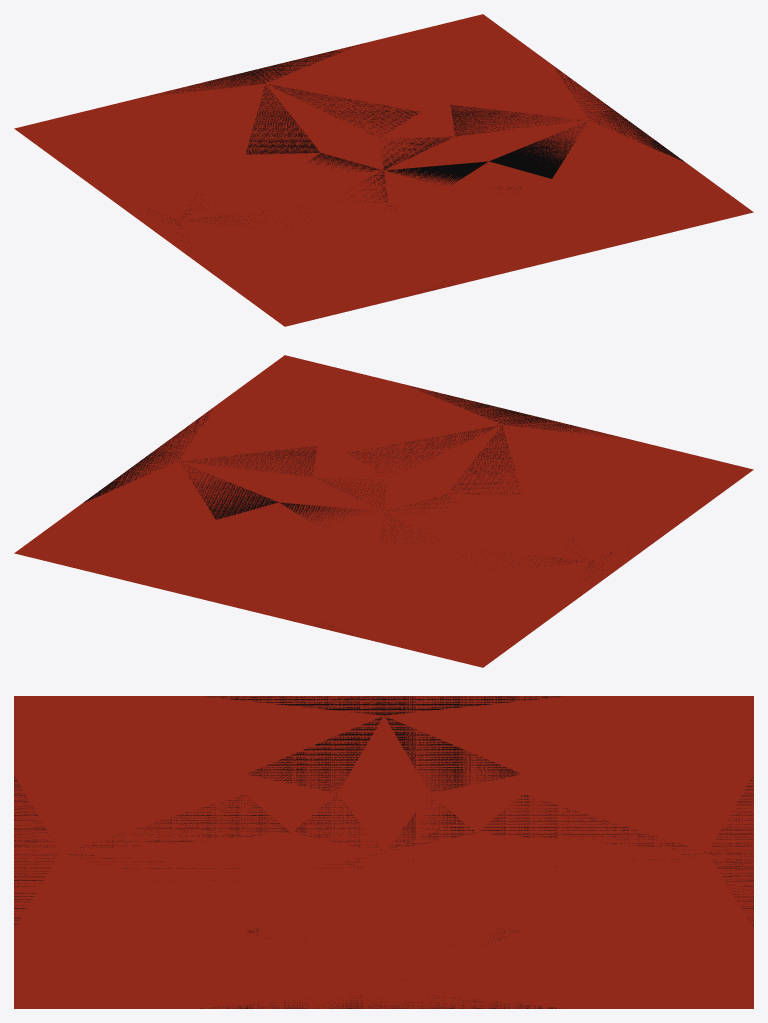
3 views of the same model, one above another, from view 1: azimuth 30°, elevation 25°; view 2: azimuth 150°, elevation 25°; view 3: azimuth 270°, elevation 25° (orthographic). The views are drawn at different scales.
Size of the model in its own units: 128 by 0 by 128.
1 material, 1 textured.
